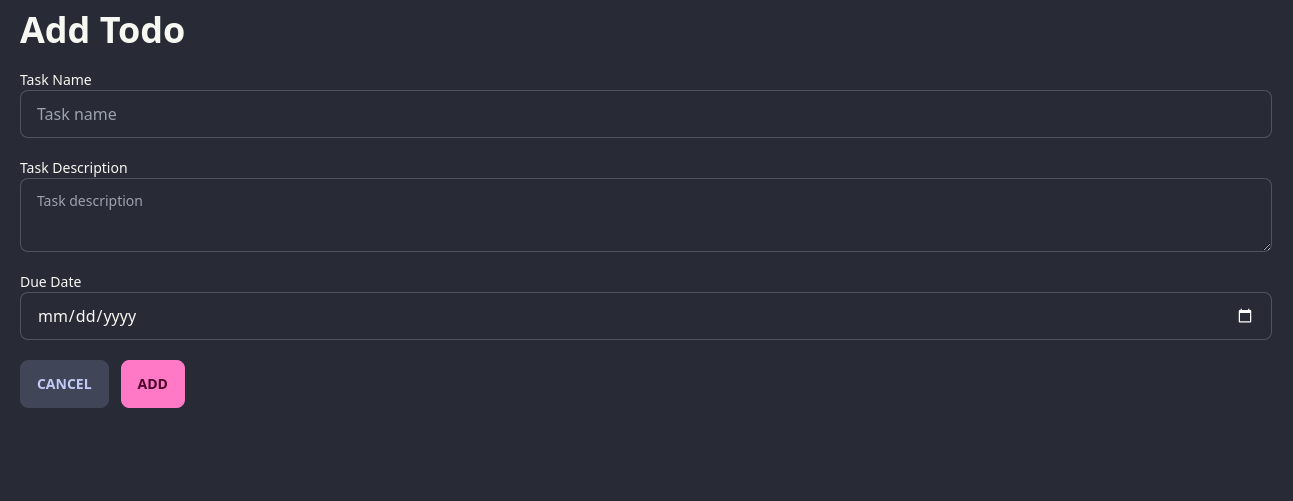
Test: Add todo page › Should be error when task name is not filled in
The image size is (1293, 501).
Type "Test" into the text box with test id "description_add_todo_field" at (646, 215), box [20,178,1272,252]
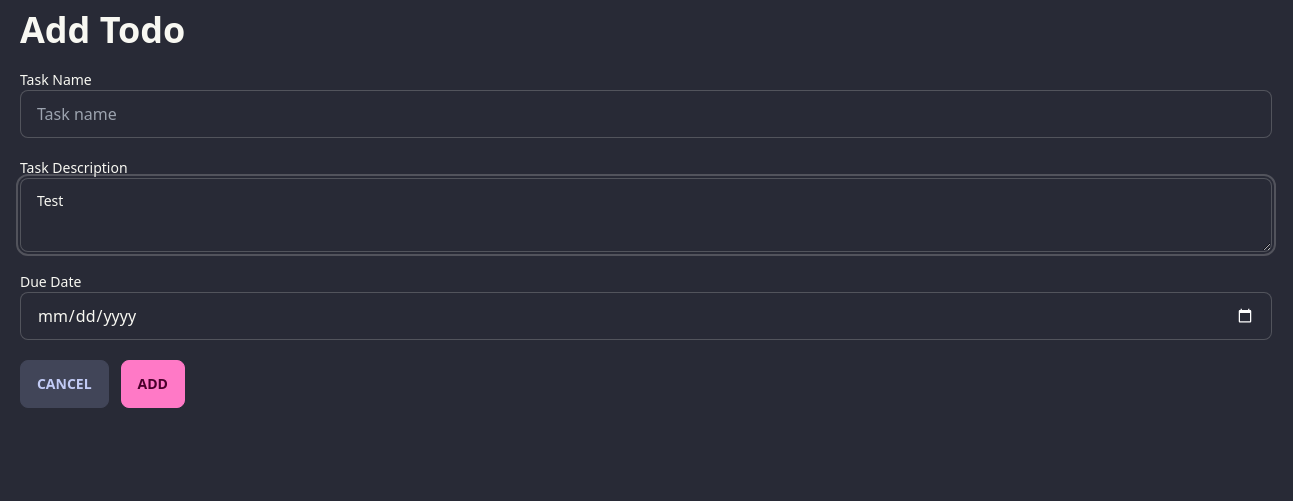
Type "2022-12-31" into the date field with test id "date_add_todo_field" at (646, 316), box [20,292,1272,340]
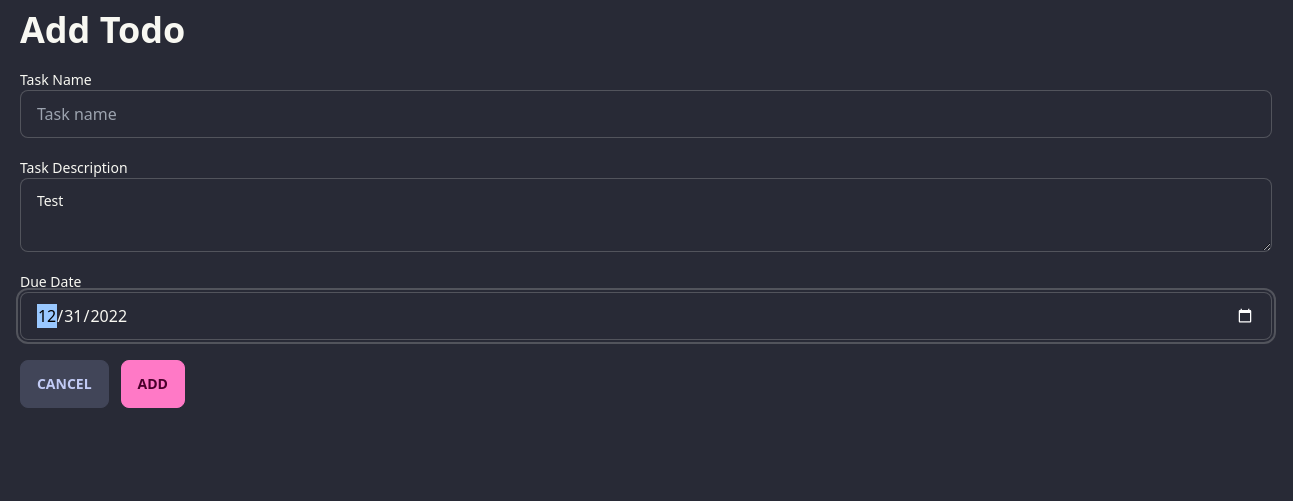
Click the button with test id "submit_add_todo_button" at (153, 384), box [121,360,185,408]
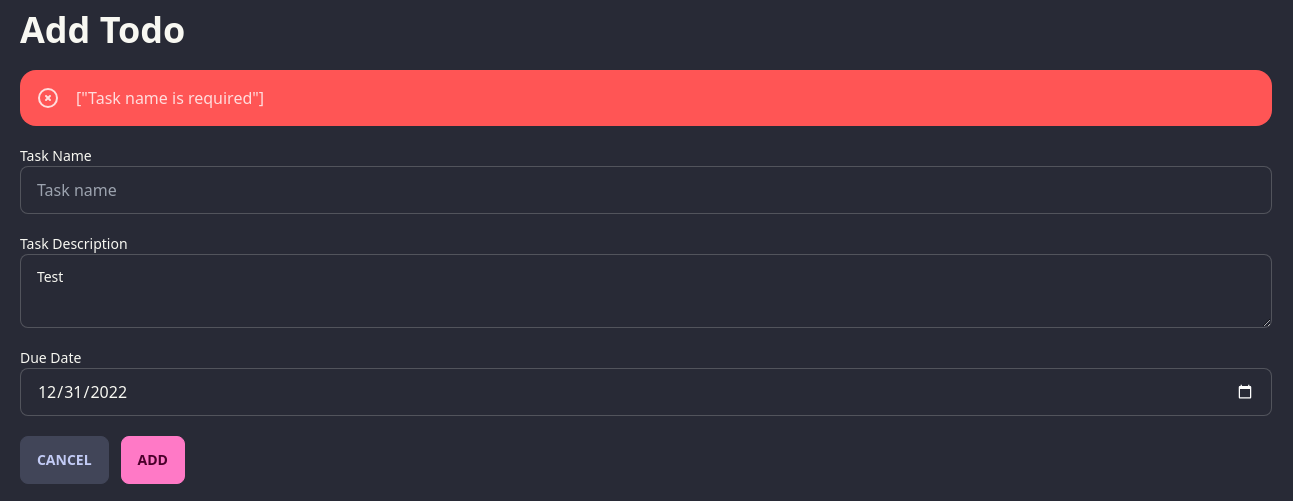
Check: the text "Task name is required" is shown, box [76,87,264,109]
